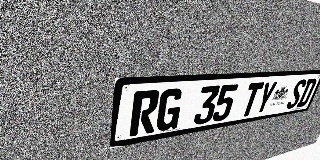3: (192, 85, 221, 126)
5: (211, 84, 239, 122)
D: (296, 78, 318, 107)
G: (154, 88, 185, 132)
R: (129, 90, 161, 137)
S: (285, 79, 308, 109)
T: (239, 82, 264, 117)
Y: (253, 81, 278, 115)
